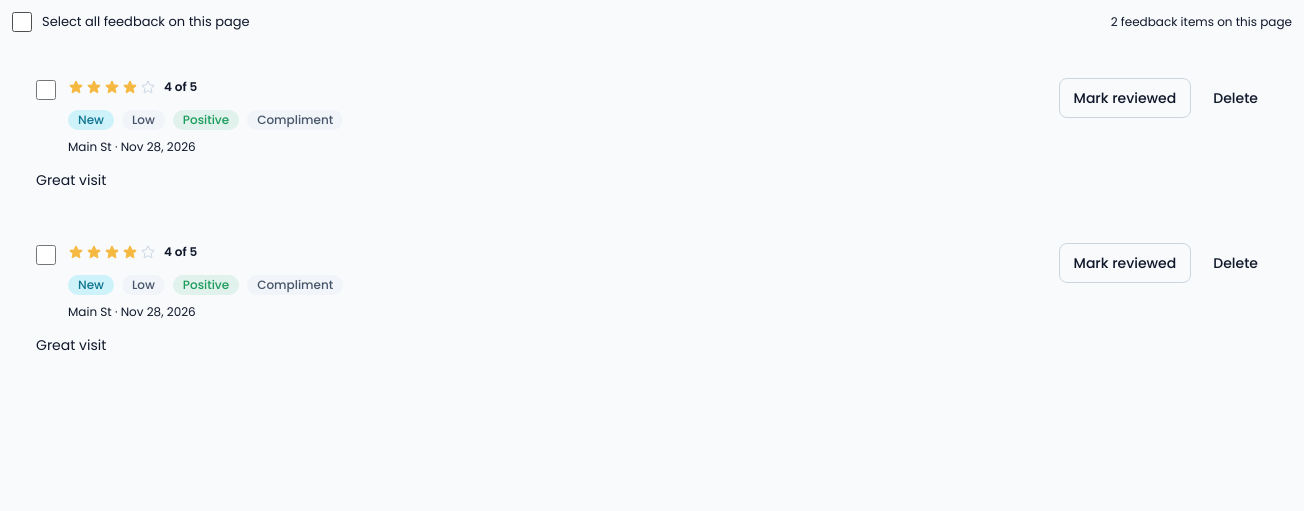
Test: FeedbackInboxList › "select all" selects every row, and bulk-mark-reviewed sends every id -- distinct label from the per-row "Mark reviewed" button so the two are never ambiguous o
Later steps or results of the test are not shown.
Click the checkbox labelled "Select all feedback on this page". click: (22, 22)
box: [12,12,32,32]
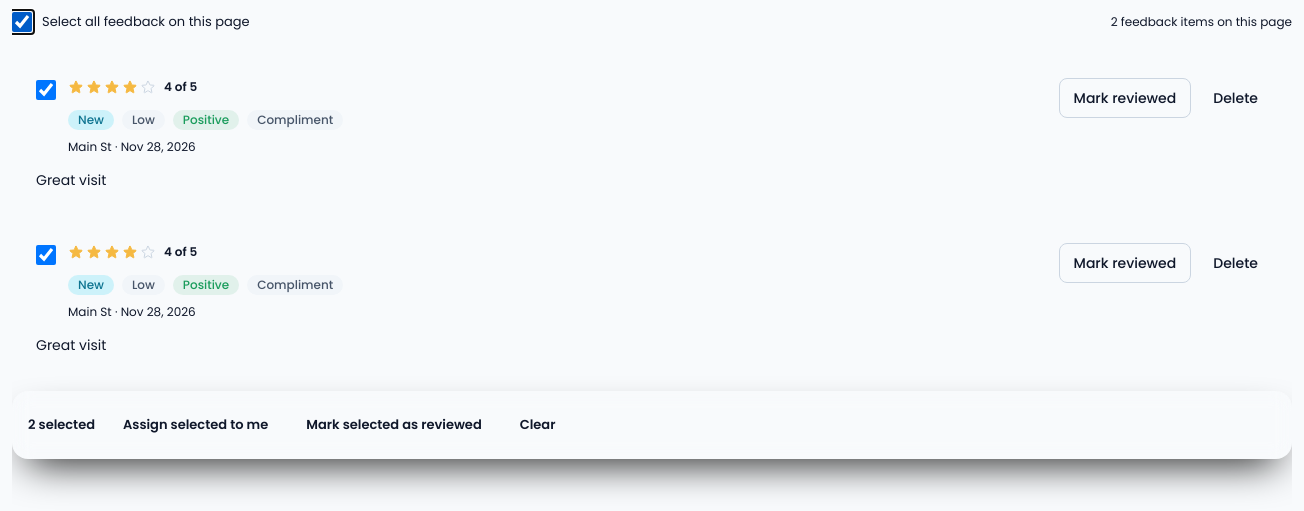
Now the text "2 selected" is shown, box [28,415,95,435]
